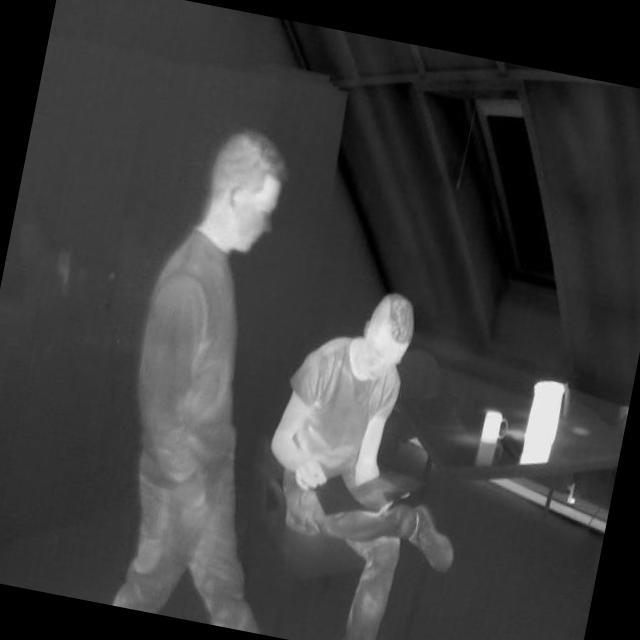person: (87, 110, 327, 629), (232, 270, 506, 640)
